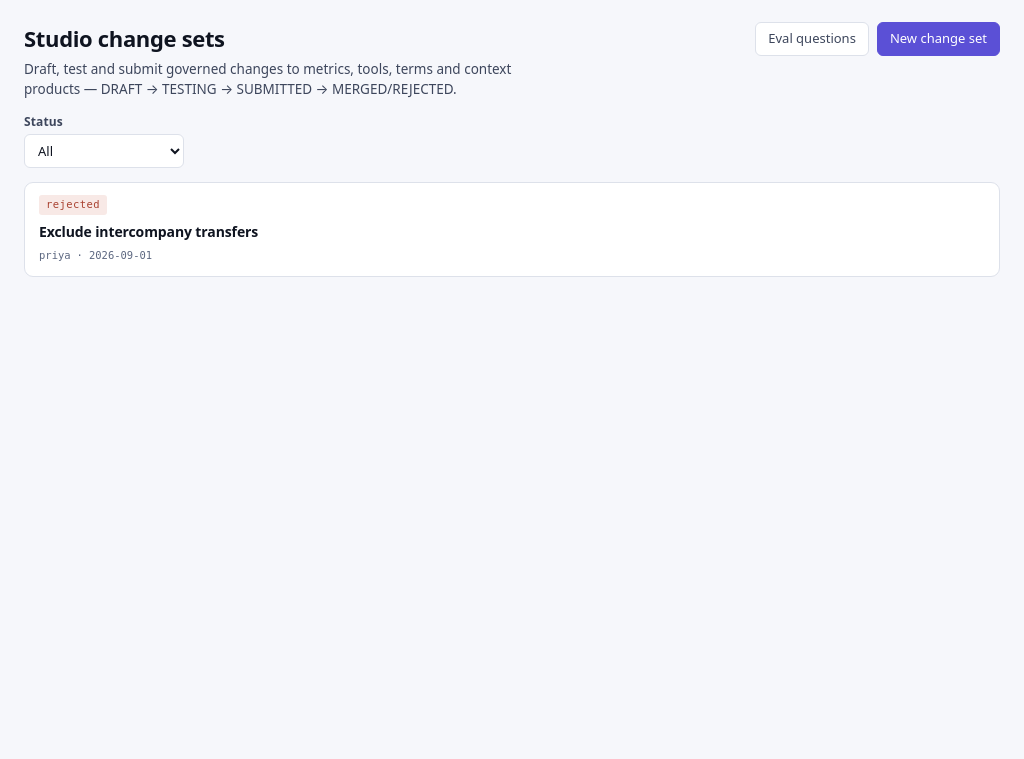
Studio controls by role › makes a REJECTED change set read-only even for a write role
This screenshot has width=1024, height=759.
Click the button "rejected Exclude intercompany transfers priya · 2026-09-01" at (73, 205), box [25, 183, 999, 276]
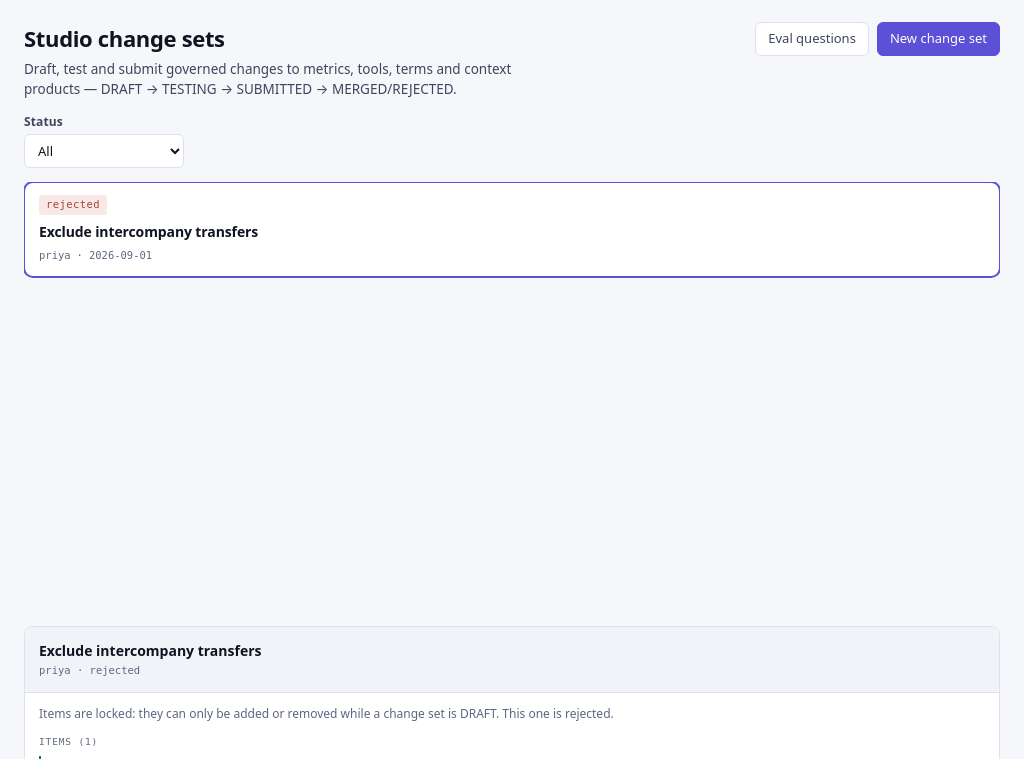
Expected: the text "Items (1)" is shown, [39, 736, 98, 747]
Expected: the text "Items are locked" is shown, [39, 705, 460, 722]
